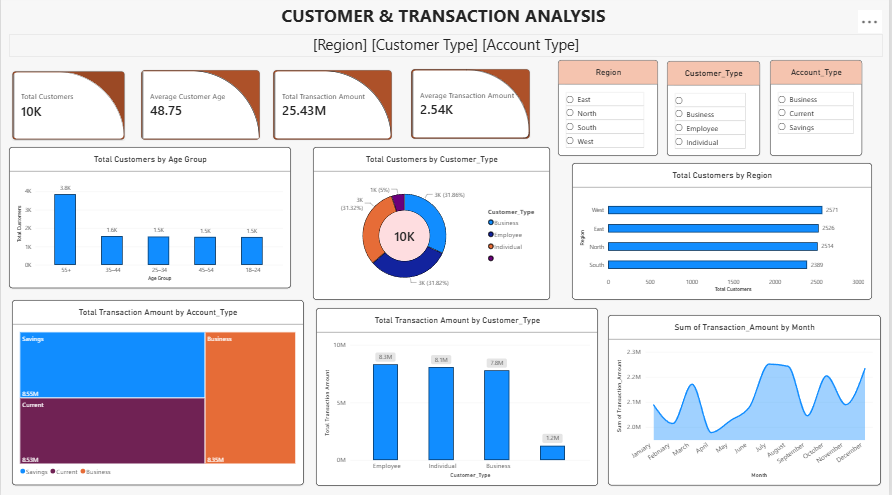

This screenshot's page, from the dashboard's own definition file:
{"tool":"powerbi","page":{"name":"Customer & Transaction Analysis","canvas":[1920,1080],"ordinal":1},"visuals":[{"type":"textbox","box":[17.3,17.3,1887.8,49.7],"z":0},{"type":"textbox","box":[17.3,84.2,1887.8,49.7],"z":1000},{"type":"cardVisual","fields":{"Data":["customer_data.Average Customer Age"]},"box":[302.4,162,257,151],"z":3000},{"type":"cardVisual","fields":{"Data":["transaction_data.Total Transaction Amount"]},"box":[587.5,162,257,151],"z":4000},{"type":"cardVisual","fields":{"Data":["transaction_data.Average Transaction Amount"]},"box":[885.6,159.8,257,151],"z":5000},{"type":"clusteredColumnChart","fields":{"Category":["customer_data.Age Group"],"Y":["customer_data.Total Customers"]},"box":[17.3,328.3,609.1,304.6],"z":6000},{"type":"donutChart","fields":{"Category":["customer_data.Customer_Type"],"Y":["customer_data.Total Customers"]},"box":[673.9,328.3,511.9,330.5],"z":7000},{"type":"clusteredBarChart","fields":{"Category":["customer_data.Region"],"Y":["customer_data.Total Customers"]},"box":[1234.1,363.6,647.7,295.5],"z":8000},{"type":"treemap","fields":{"Group":["transaction_data.Account_Type"],"Values":["transaction_data.Total Transaction Amount"]},"box":[22.7,659.1,629.5,400],"z":9000},{"type":"clusteredColumnChart","fields":{"Category":["customer_data.Customer_Type"],"Y":["transaction_data.Total Transaction Amount"]},"box":[680.4,676.1,609.1,384.5],"z":10000},{"type":"lineChart","fields":{"Category":["transaction_data.Transaction_Date.Variation.Date Hierarchy.Month"],"Y":["Sum(transaction_data.Transaction_Amount)"]},"box":[1311.4,690.9,588.6,368.2],"z":11000},{"type":"listSlicer","fields":{"Values":["bank_data.Region"]},"box":[1203.1,140.4,216,207.4],"z":12000},{"type":"listSlicer","fields":{"Values":["customer_data.Customer_Type"]},"box":[1438.6,142.6,200.9,205.2],"z":13000},{"type":"listSlicer","fields":{"Values":["transaction_data.Account_Type"]},"box":[1661,140.4,198.7,207.4],"z":14000},{"type":"cardVisual","fields":{"Data":["customer_data.Total Customers"]},"box":[23.8,164.2,244.1,149],"z":14001}]}

Visuals, with their boxes in screenshot pixels (x1, y1, x2, y2), scaled from the page's 1920x1080 canvas onto the 892x495 screenshot:
textbox: box(8, 8, 885, 31)
textbox: box(8, 39, 885, 61)
cardVisual - customer_data.Average Customer Age: box(140, 74, 260, 143)
cardVisual - transaction_data.Total Transaction Amount: box(273, 74, 392, 143)
cardVisual - transaction_data.Average Transaction Amount: box(411, 73, 531, 142)
clusteredColumnChart - customer_data.Age Group x customer_data.Total Customers: box(8, 150, 291, 290)
donutChart - customer_data.Customer_Type x customer_data.Total Customers: box(313, 150, 551, 302)
clusteredBarChart - customer_data.Region x customer_data.Total Customers: box(573, 167, 874, 302)
treemap - transaction_data.Account_Type x transaction_data.Total Transaction Amount: box(11, 302, 303, 485)
clusteredColumnChart - customer_data.Customer_Type x transaction_data.Total Transaction Amount: box(316, 310, 599, 486)
lineChart - transaction_data.Transaction_Date.Variation.Date Hierarchy.Month x Sum(transaction_data.Transaction_Amount): box(609, 317, 883, 485)
listSlicer - bank_data.Region: box(559, 64, 659, 159)
listSlicer - customer_data.Customer_Type: box(668, 65, 762, 159)
listSlicer - transaction_data.Account_Type: box(772, 64, 864, 159)
cardVisual - customer_data.Total Customers: box(11, 75, 124, 144)
